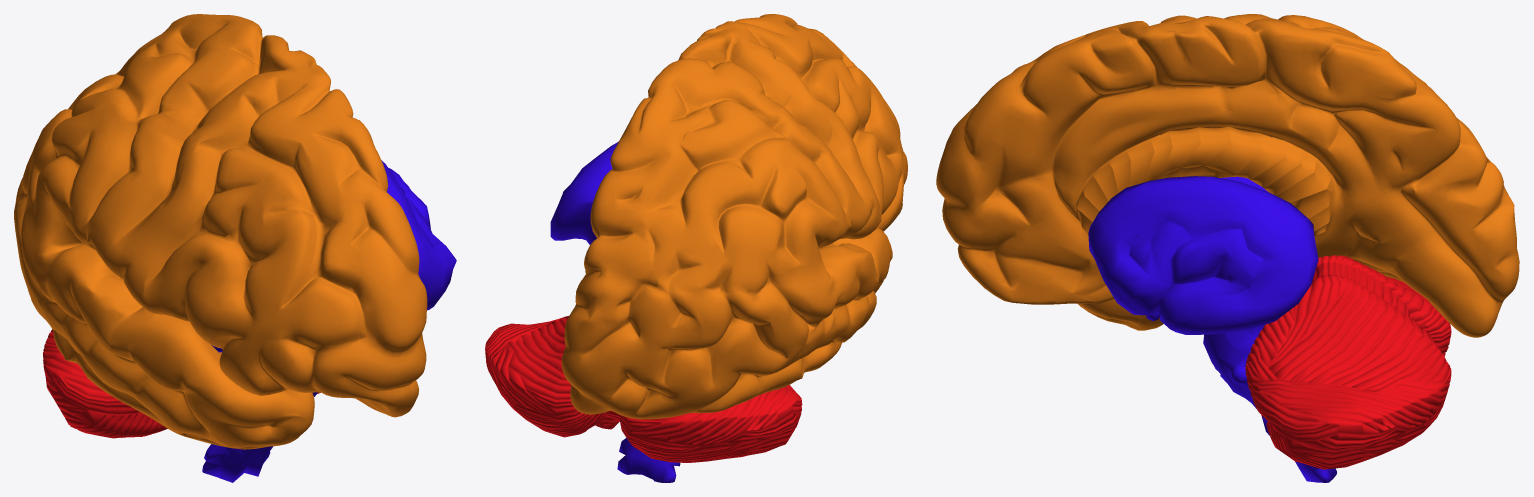
File: brain-part-1.glb
The picture shows the model from 3 angles, left to right: view 1: azimuth 30°, elevation 25°; view 2: azimuth 150°, elevation 25°; view 3: azimuth 270°, elevation 25°; orthographic projection. The views are drawn at different scales.
Visible parts, largest first — view 1: Brain_Part_06, Brain_Part_05, Brain_Part_02; view 2: Brain_Part_06, Brain_Part_02, Brain_Part_05; view 3: Brain_Part_06, Brain_Part_05, Brain_Part_02.
Boxes of the visible parts, left/top/right/bottom form: Brain_Part_06: left=14, top=14, right=427, bottom=449; Brain_Part_05: left=202, top=160, right=456, bottom=482; Brain_Part_02: left=43, top=329, right=320, bottom=438; Brain_Part_06: left=561, top=14, right=907, bottom=419; Brain_Part_02: left=485, top=316, right=802, bottom=462; Brain_Part_05: left=550, top=141, right=680, bottom=482; Brain_Part_06: left=936, top=14, right=1519, bottom=337; Brain_Part_05: left=1088, top=176, right=1336, bottom=482; Brain_Part_02: left=1245, top=255, right=1451, bottom=469.
Size of the model in its own units: 3.37 by 4.02 by 4.73.
